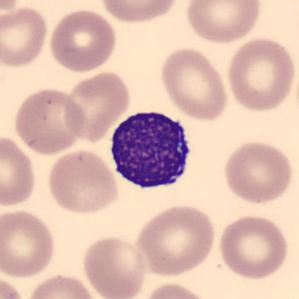Lymphocyte: (106, 102, 198, 195)
RBC: (132, 202, 218, 278), (224, 34, 297, 114), (158, 45, 230, 122), (62, 69, 133, 144), (11, 86, 87, 156), (216, 212, 290, 281), (45, 148, 120, 216), (221, 137, 296, 205), (47, 7, 119, 74), (79, 233, 147, 299), (0, 206, 58, 279), (182, 0, 264, 45), (0, 4, 50, 69), (0, 132, 38, 209), (96, 0, 182, 25), (23, 272, 99, 299), (138, 281, 214, 299), (0, 274, 28, 299), (0, 0, 23, 18)
